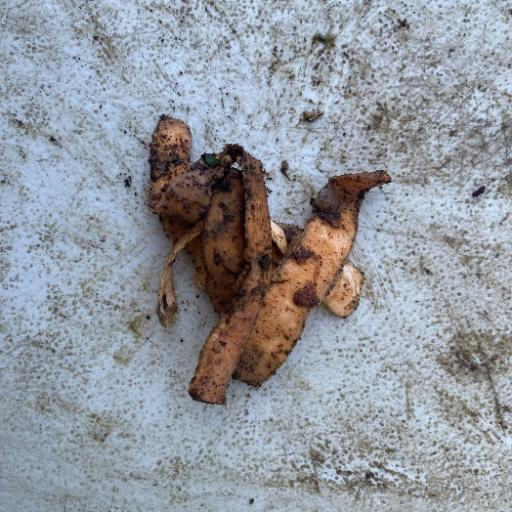Waste: (144, 112, 392, 406)
